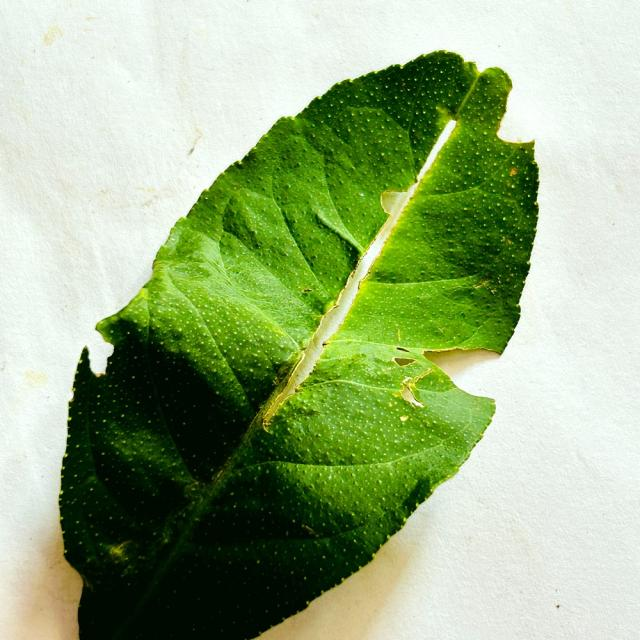Deficiency Leaf: (266, 182, 417, 419), (424, 346, 503, 382), (499, 88, 534, 144), (85, 326, 113, 376)
Lemon: (60, 51, 538, 639)
